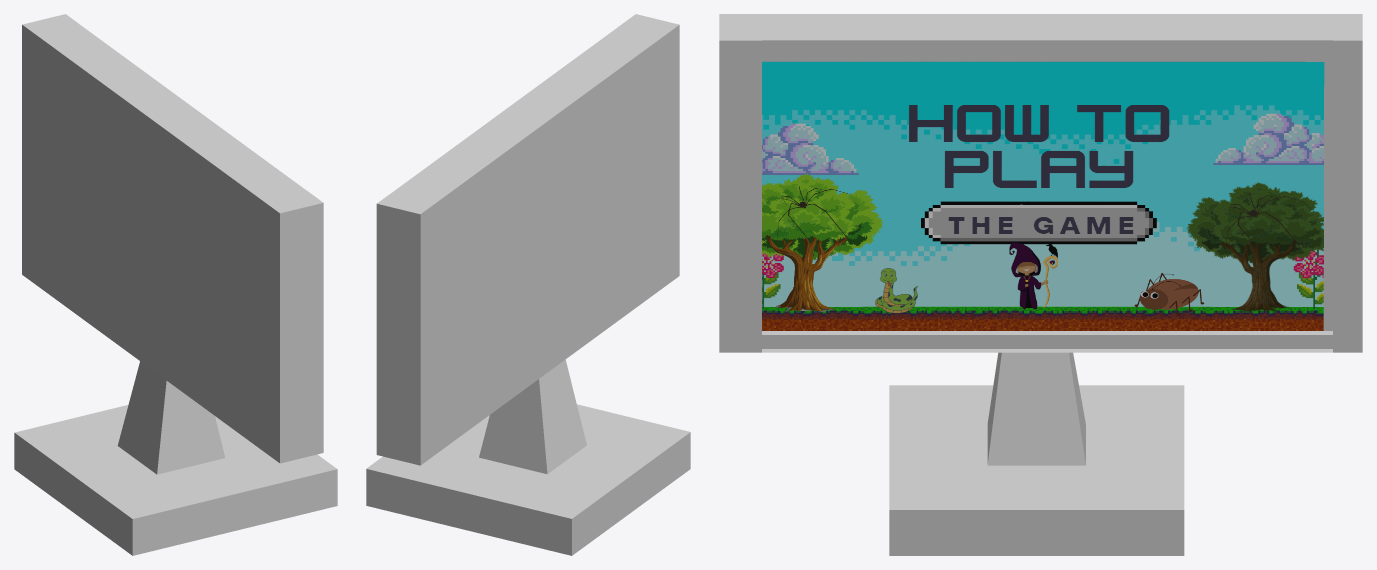
The model's file is monitor-howto.fbx.
The picture shows the model from 3 angles, left to right: view 1: azimuth 30°, elevation 25°; view 2: azimuth 150°, elevation 25°; view 3: azimuth 270°, elevation 25°; orthographic projection. The views are drawn at different scales.
Visible parts, largest first — view 1: Cube.001; view 2: Cube.001; view 3: Plane, Cube.001.
Part boxes in pixels (box(x1,y1,x2,y2)): Cube.001: box(14, 14, 337, 555); Cube.001: box(366, 14, 690, 555); Plane: box(762, 61, 1324, 330); Cube.001: box(719, 14, 1362, 555).
Size of the model in its own units: 577 by 1005 by 1259.
Materials: 2 (1 with a texture image).
